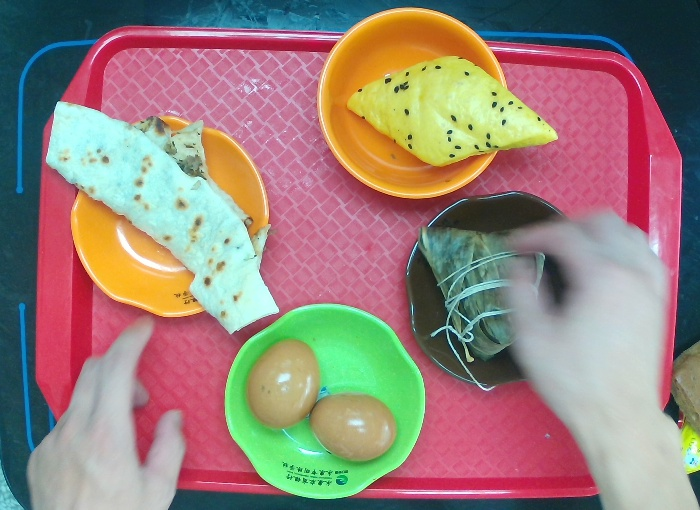YKMZ-Ju_Se_Ao_Bian_Wan: (64, 110, 276, 325)
YKMZ-Ju_Se_Yuan_Wan: (313, 1, 517, 206)
YKMZ-Ka_Fei_Ao_Bian_Wan: (395, 183, 581, 394)
YKMZ-Lv_Se_Ao_Bian_Wan: (217, 299, 432, 508)
